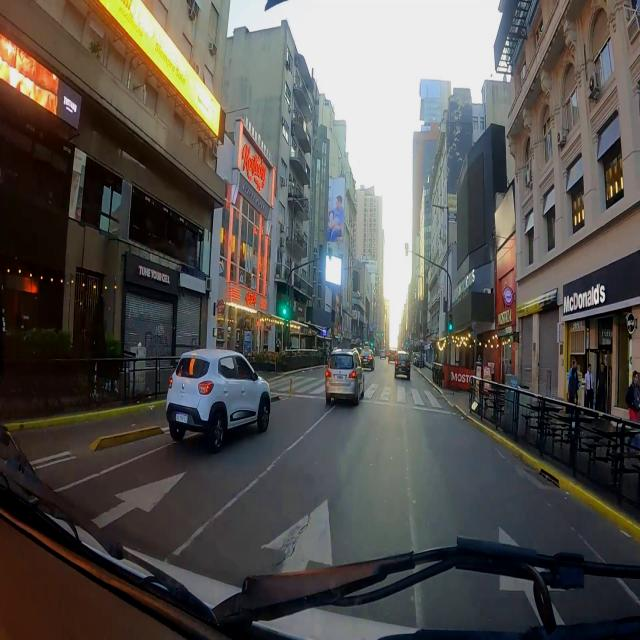car: (166, 350, 270, 452), (326, 350, 364, 404), (395, 351, 410, 379), (361, 348, 374, 371), (388, 351, 396, 362), (379, 350, 386, 359)
